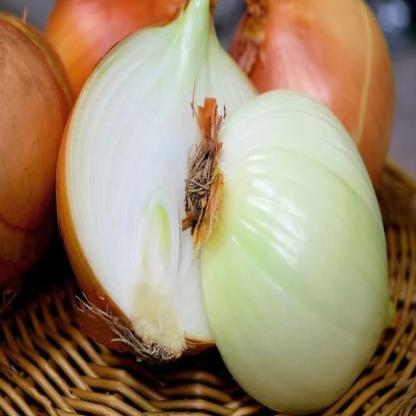onion: (204, 86, 394, 403), (78, 15, 233, 346)
